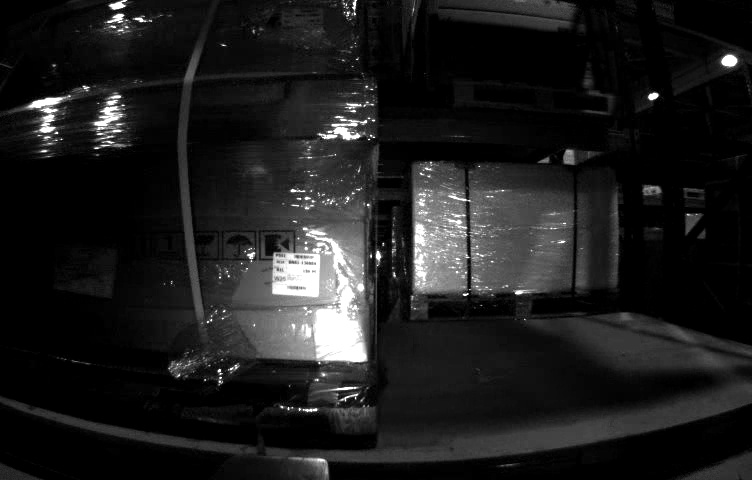True Barcode: (273, 250, 319, 296)
